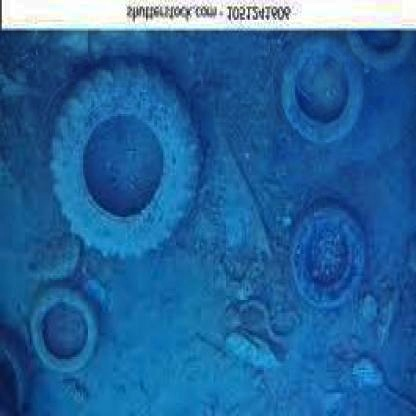tire: (52, 50, 209, 278), (284, 193, 377, 318), (280, 35, 362, 151), (23, 280, 110, 381)
